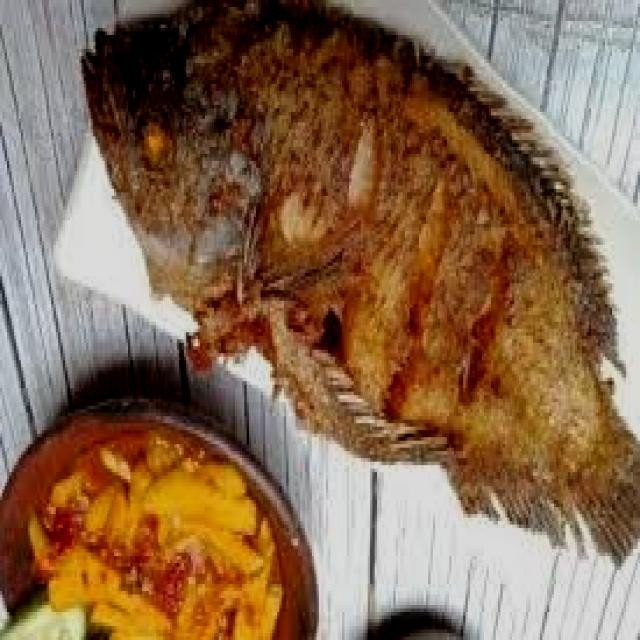ikan goreng: (61, 0, 640, 563)
